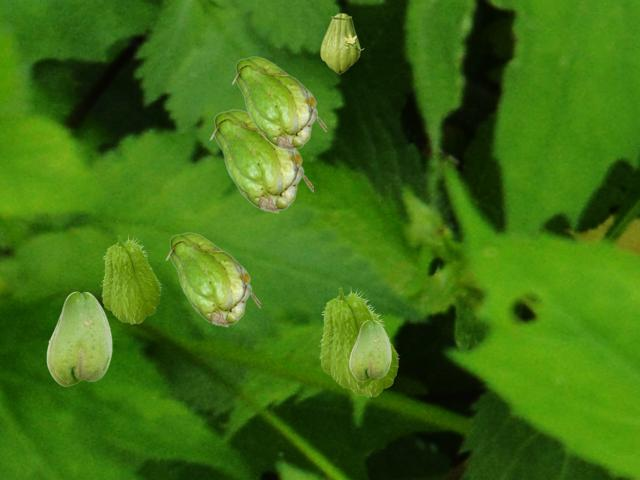sayote: (209, 109, 312, 212), (231, 56, 325, 150), (165, 232, 259, 326), (318, 286, 378, 389), (46, 291, 111, 385), (100, 234, 161, 323), (350, 303, 399, 396), (320, 13, 363, 73), (349, 320, 390, 380)
